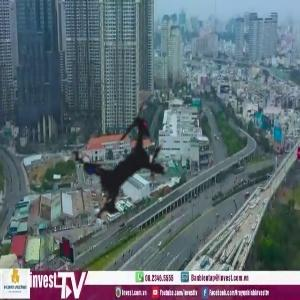drone: (16, 55, 233, 272)
